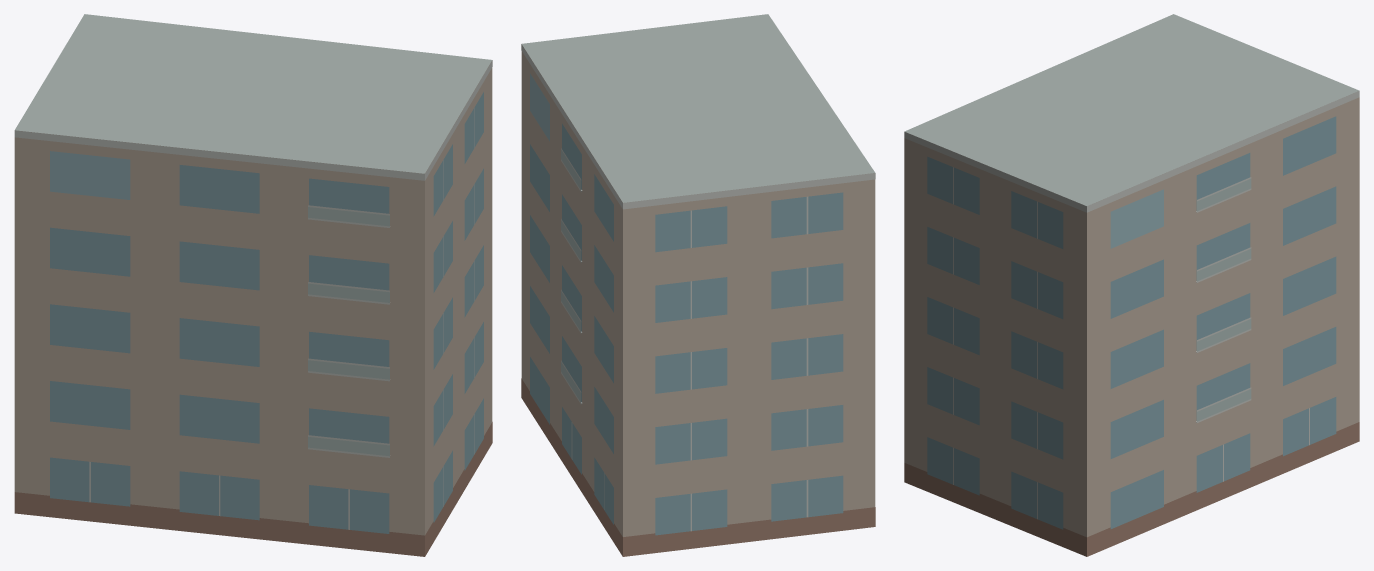
The model's file is survey-upis-32845280.glb.
The picture shows the model from 3 angles, left to right: view 1: azimuth 30°, elevation 25°; view 2: azimuth 150°, elevation 25°; view 3: azimuth 270°, elevation 25°; orthographic projection. The views are drawn at different scales.
Visible parts, largest first — view 1: survey-upis-32845280.tmp; view 2: survey-upis-32845280.tmp; view 3: survey-upis-32845280.tmp.
Part boxes in pixels (x1=…): survey-upis-32845280.tmp: x1=14, y1=14, x2=492, y2=556; survey-upis-32845280.tmp: x1=521, y1=14, x2=875, y2=556; survey-upis-32845280.tmp: x1=904, y1=14, x2=1359, y2=556.
Bounding box in the file's own units: 15.53 × 13.2 × 15.55.
